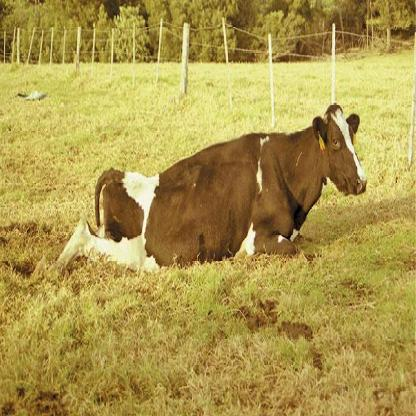cow: (57, 102, 369, 272)
